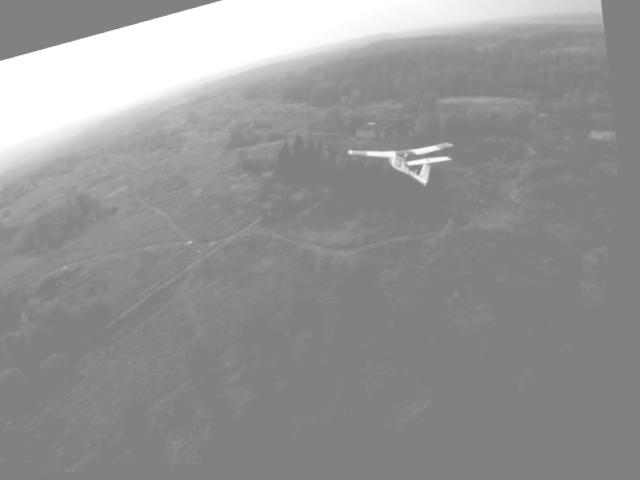hedef: (337, 115, 487, 223)
